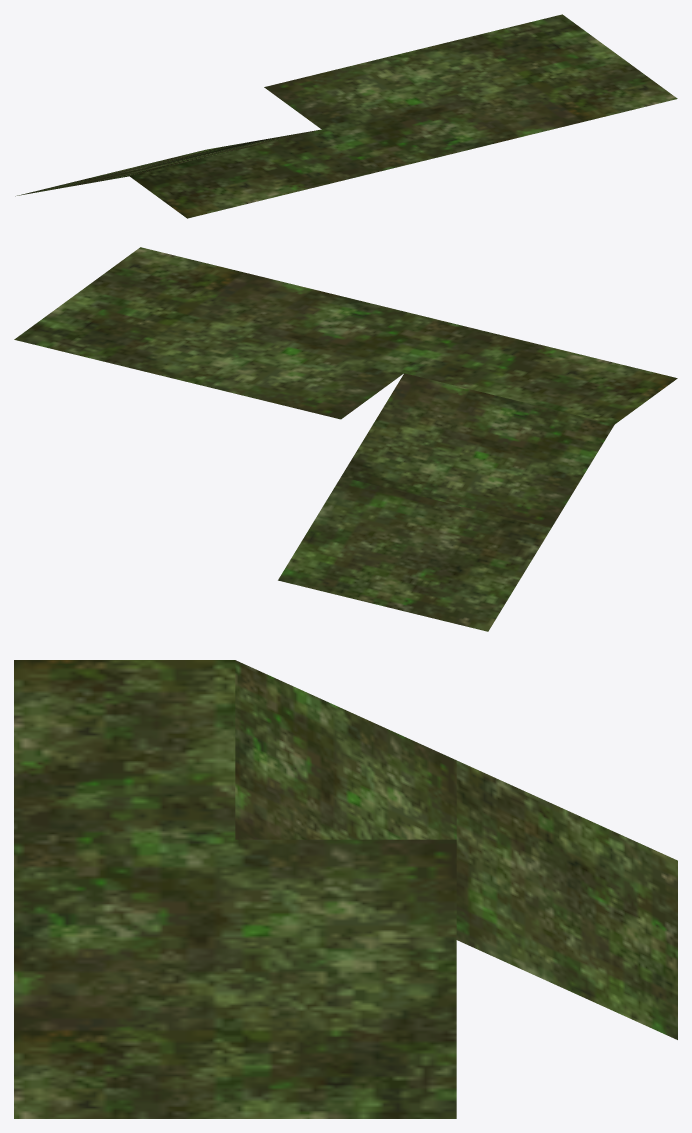
The model's file is OVERHILL_A_01_OBJECT116.fbx.
3 renders of one model, top to bottom at view 1: azimuth 30°, elevation 25°; view 2: azimuth 150°, elevation 25°; view 3: azimuth 270°, elevation 25°, orthographic. The views are drawn at different scales.
Parts seen in each view (by area): view 1: OVERHILL_A_01_OBJECT116; view 2: OVERHILL_A_01_OBJECT116; view 3: OVERHILL_A_01_OBJECT116.
Boxes of the visible parts, bbox=[...] form: OVERHILL_A_01_OBJECT116: bbox=[15, 14, 677, 218]; OVERHILL_A_01_OBJECT116: bbox=[14, 247, 677, 631]; OVERHILL_A_01_OBJECT116: bbox=[14, 660, 677, 1118].
Bounding box in the file's own units: 49061 × 10000 × 30000.
1 material, 1 textured.
